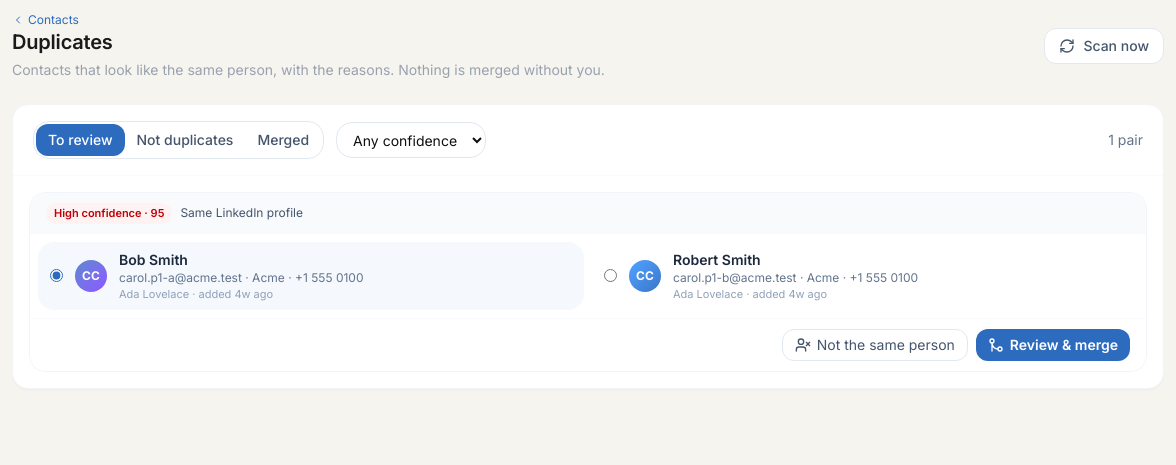
Test: Duplicates page › runs a scan on demand
Check: the text "Same LinkedIn profile" is shown, box [180,205,303,221]
Click the button "Scan now" at {"x": 1104, "y": 46}, box [1044,28,1164,64]
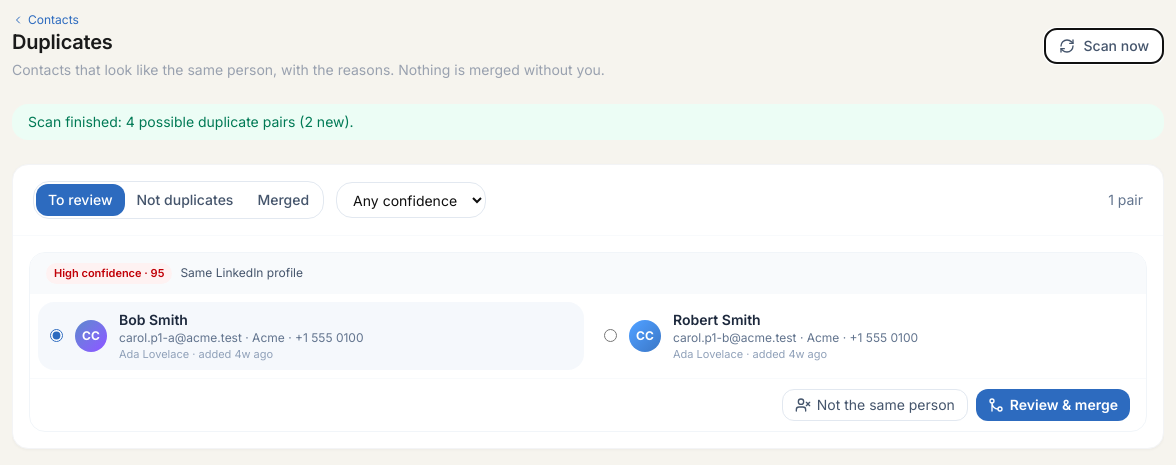
Check: the text "Scan finished: 4 possible duplicate pairs (2 new)." is shown, box [12,104,1164,140]
